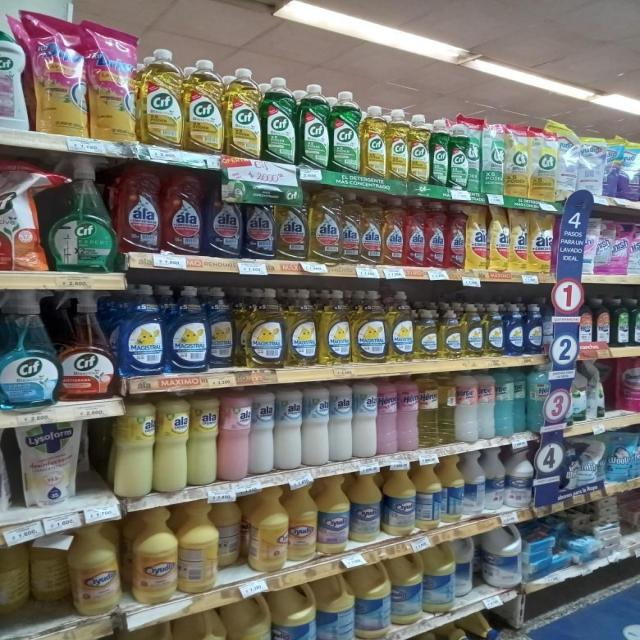ala_conc_amarillo: (276, 186, 307, 261), (310, 188, 340, 262), (361, 193, 382, 266), (383, 197, 404, 266), (341, 192, 361, 264)
ala_conc_azul: (205, 177, 242, 258), (244, 195, 275, 260)
ala_conc_rojo: (116, 163, 161, 254), (164, 168, 204, 256), (405, 198, 425, 268), (446, 203, 466, 269), (426, 201, 445, 268)
ala_crem_amarillo: (189, 390, 217, 486)
ala_crem_blanco: (275, 384, 302, 471), (303, 381, 329, 467), (250, 386, 274, 476), (353, 378, 377, 458), (330, 380, 352, 462)
ala_crem_rosado: (219, 386, 250, 482)
ala_sachet_amarillo: (529, 210, 554, 274), (466, 203, 487, 270), (510, 208, 528, 272)
cif_conc_bot_amarilla: (139, 48, 182, 148), (184, 58, 224, 154), (226, 68, 261, 158), (361, 105, 386, 179), (387, 108, 408, 182), (409, 114, 430, 184)
cif_conc_botella_verde: (262, 76, 296, 164), (298, 83, 330, 169), (331, 90, 360, 174), (450, 120, 468, 190), (431, 118, 448, 187)
cif_conc_sachet_amarillo: (530, 124, 558, 201)
drive: (33, 15, 87, 136)
heroe: (456, 368, 478, 442), (398, 374, 418, 452), (378, 375, 397, 455), (419, 372, 438, 448), (478, 368, 494, 440)
magistral_con_amarillo: (244, 287, 284, 368), (351, 289, 387, 364), (286, 288, 317, 367), (320, 289, 350, 365), (388, 291, 413, 363), (414, 308, 438, 360), (439, 306, 462, 360), (484, 302, 504, 358), (463, 303, 483, 358)
magistral_con_azul: (120, 284, 165, 376), (168, 285, 208, 373), (208, 286, 236, 369), (504, 302, 524, 356), (525, 303, 542, 355)
